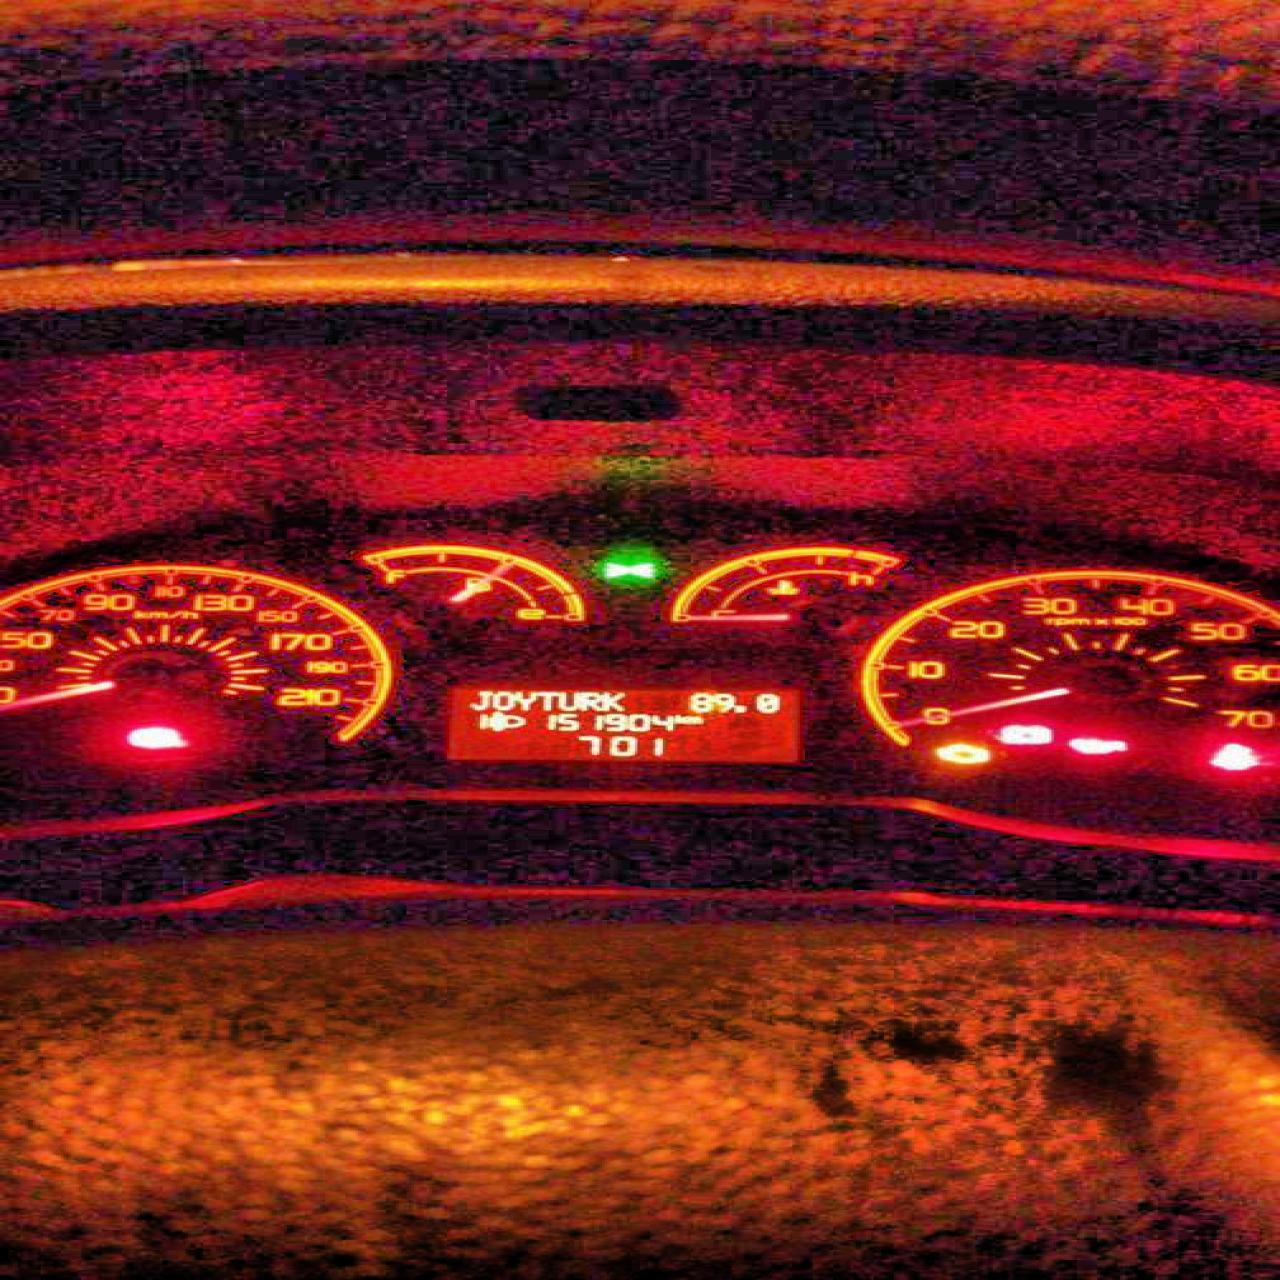-: (731, 702, 747, 713)
0: (605, 734, 635, 756), (751, 692, 779, 713), (627, 712, 648, 731)
1: (647, 735, 662, 757), (475, 712, 485, 730), (592, 713, 602, 731), (544, 713, 553, 731)
4: (651, 714, 673, 730)
5: (557, 712, 577, 731)
7: (574, 734, 602, 755)
8: (688, 689, 712, 713)
9: (714, 689, 734, 713), (602, 713, 625, 731)
X: (599, 690, 625, 710), (467, 689, 490, 710), (490, 690, 513, 710), (533, 690, 557, 710), (556, 690, 579, 710), (512, 689, 533, 710), (579, 690, 597, 710), (686, 715, 701, 724), (673, 713, 683, 723)
odometer: (437, 681, 810, 765)
